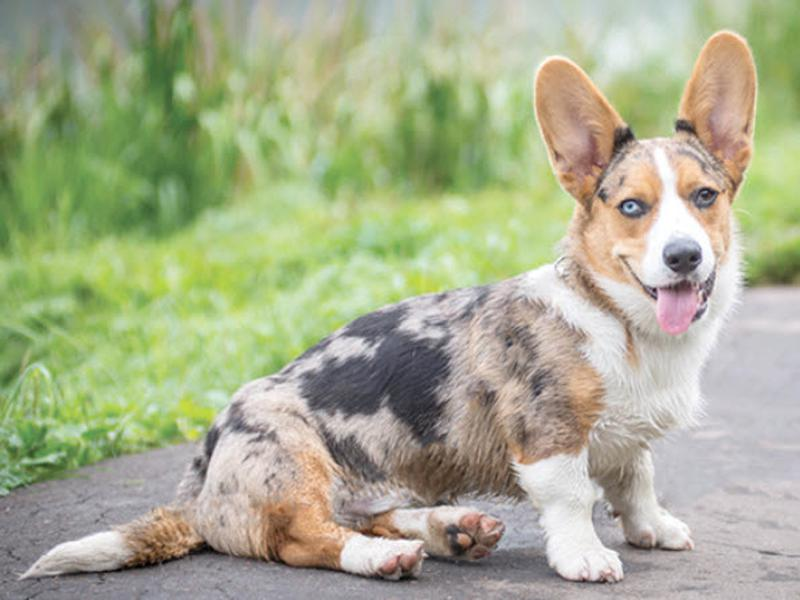corgi: (530, 27, 762, 329)
